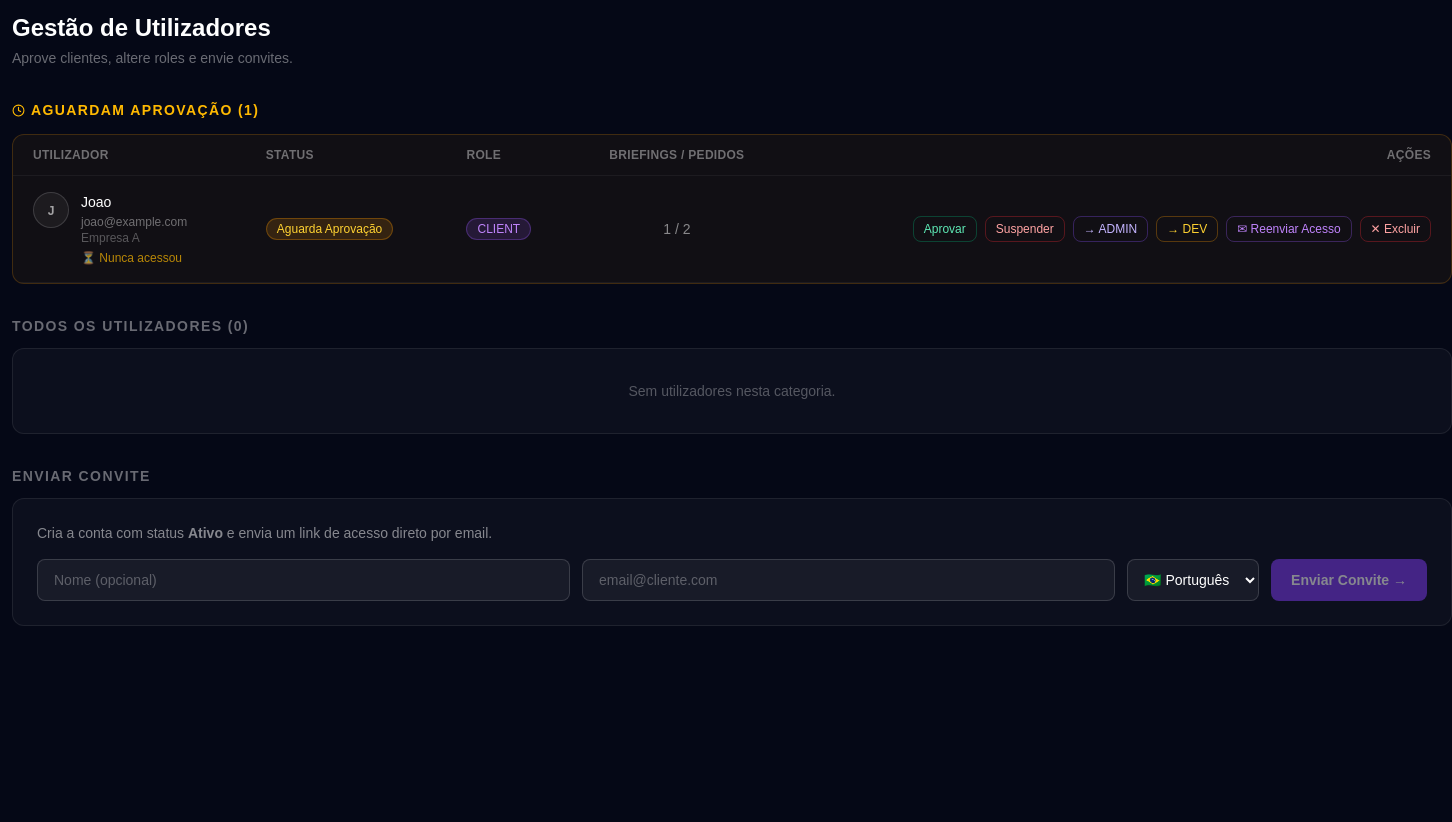
Test: UsersClient › aprova um utilizador pendente
Click the button "Aprovar": (945, 228) [913,216,977,242]
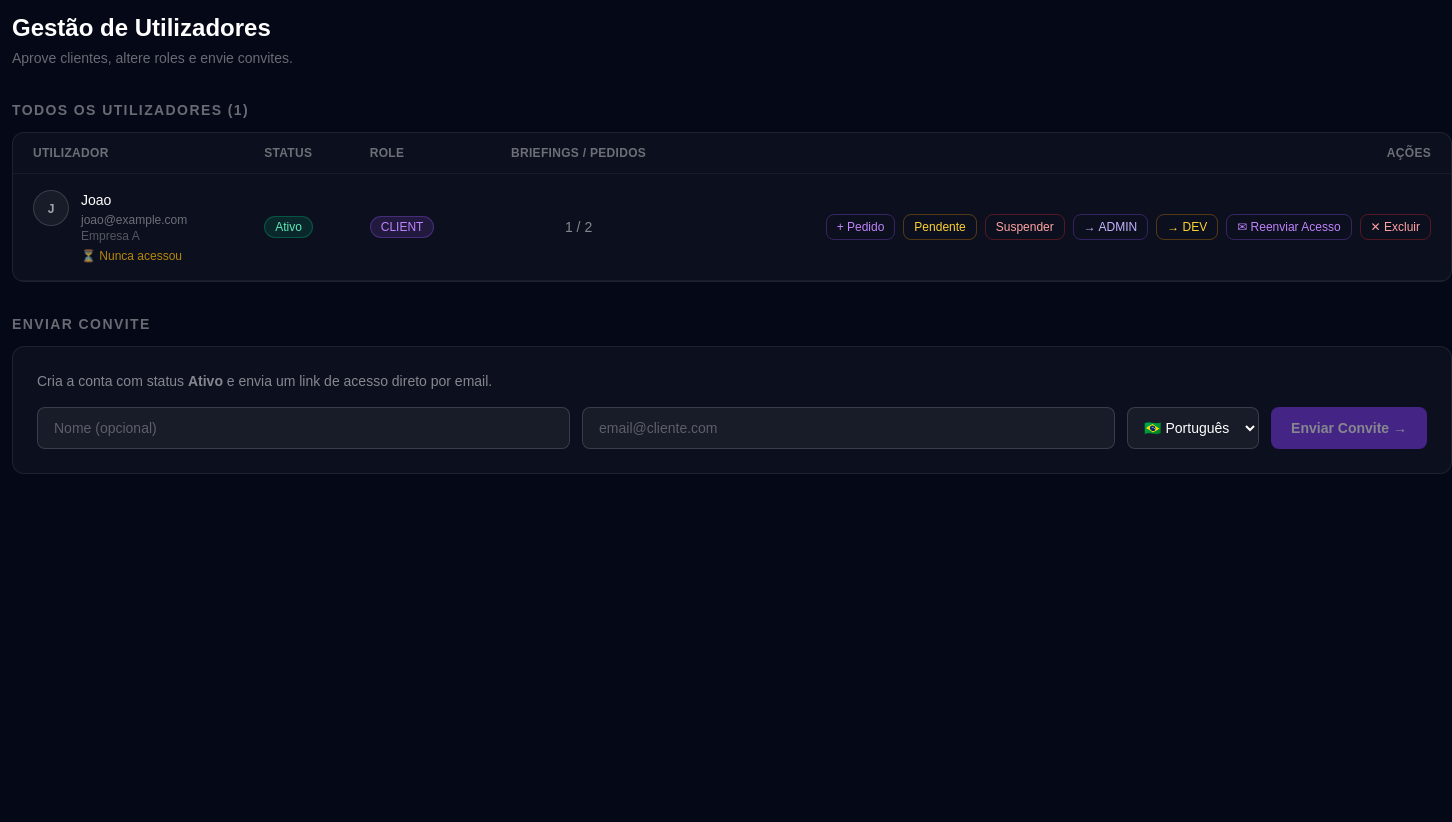
Check: the text "Ativo" next to "joao@example.com" is shown, box [275,220,302,234]
